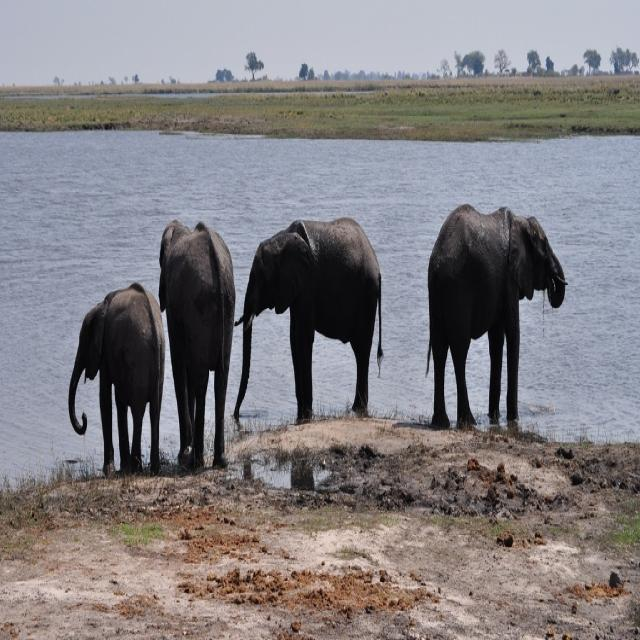Elephant: (429, 206, 564, 446), (233, 217, 383, 432), (154, 215, 238, 468), (66, 271, 166, 470)
